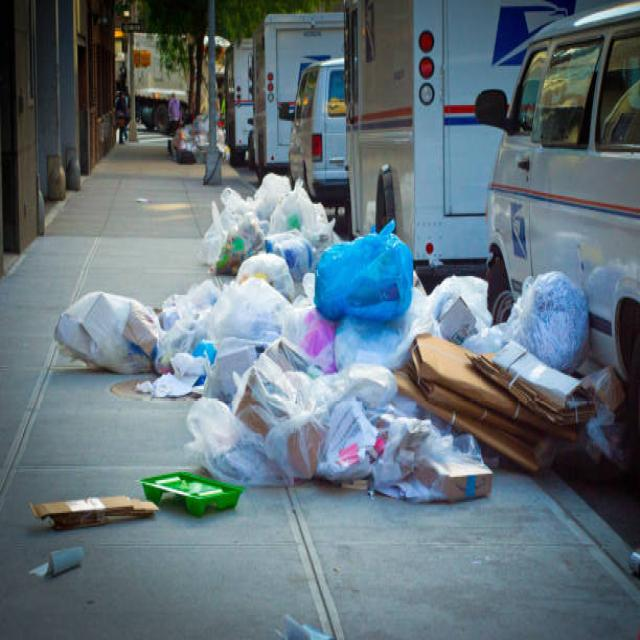cardboard: (18, 458, 250, 541), (414, 362, 582, 464)
trash: (90, 216, 410, 459)
